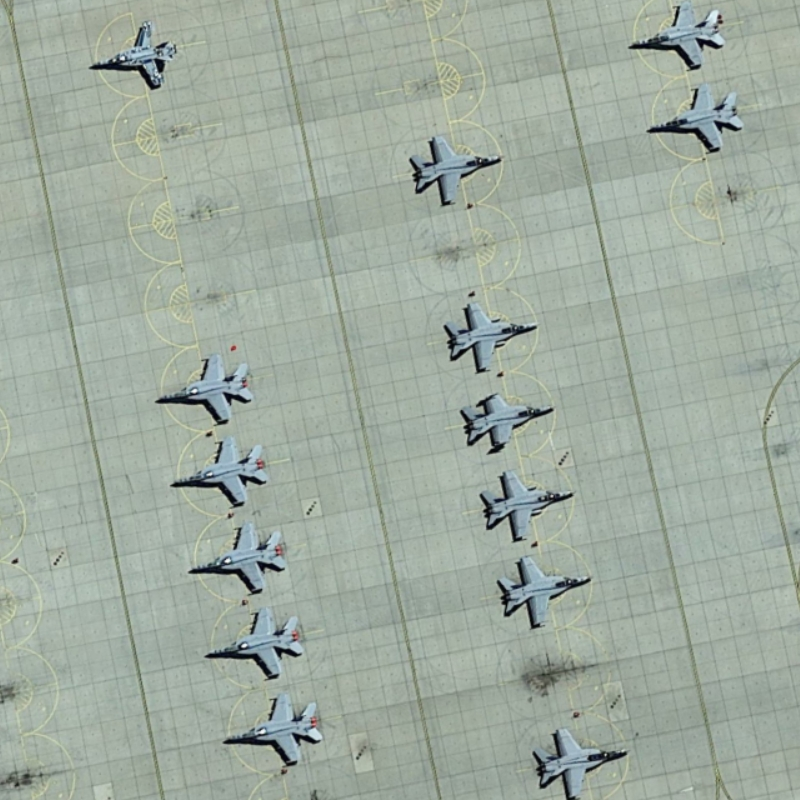A16: (184, 518, 294, 599), (215, 689, 327, 768), (151, 348, 259, 429), (200, 603, 307, 683), (493, 551, 595, 633), (437, 297, 541, 376), (168, 435, 275, 509), (405, 130, 505, 208), (643, 79, 747, 154), (531, 723, 632, 800), (476, 466, 575, 543), (623, 1, 728, 70), (87, 17, 180, 91), (458, 390, 558, 458)
